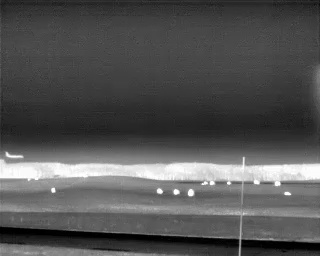AIRPLANE: (4, 150, 26, 162)
